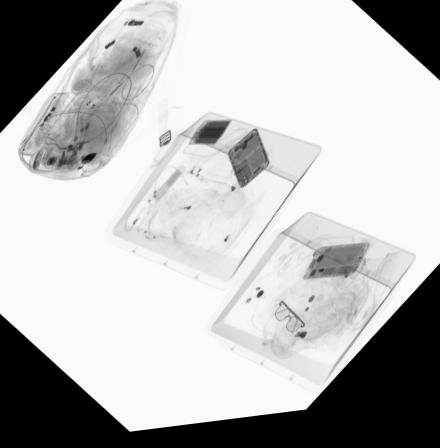Powerbank: (187, 123, 232, 149)
